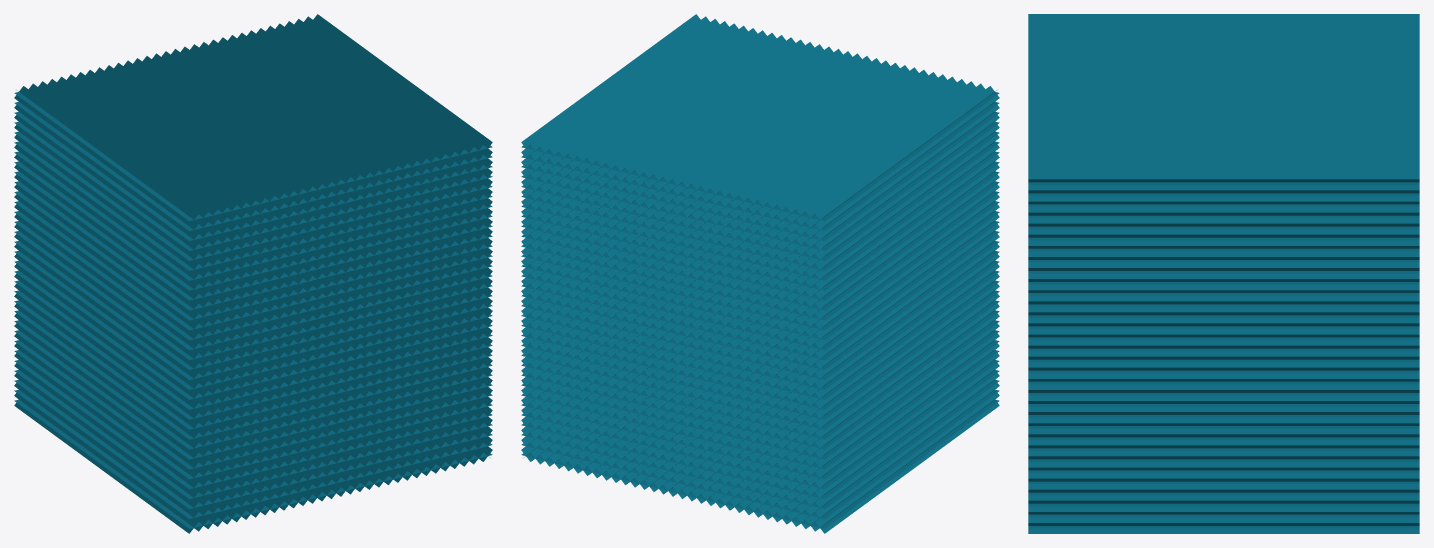
File: grass_lods_.obj
3 views of the same model, side by side, from view 1: azimuth 30°, elevation 25°; view 2: azimuth 150°, elevation 25°; view 3: azimuth 270°, elevation 25° (orthographic). The views are drawn at different scales.
Visible parts, largest first — view 1: grass_lod_0; view 2: grass_lod_0; view 3: grass_lod_0.
Boxes of the visible parts, box(x1,y1,x2,y2) form: grass_lod_0: box(14, 14, 492, 533); grass_lod_0: box(521, 14, 999, 533); grass_lod_0: box(1028, 14, 1419, 533).
Size of what is drawn, in the model's own units: 1000 by 1000 by 1000.
